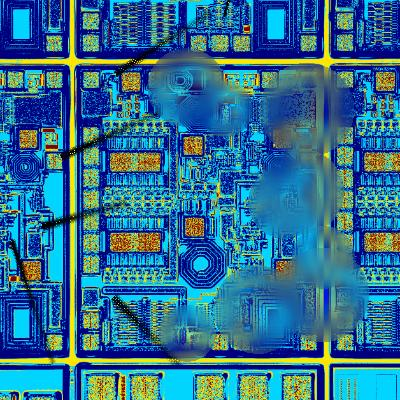Die: (74, 63, 324, 358)
Pad 1: (136, 231, 161, 251), (136, 151, 161, 171), (110, 231, 132, 251), (110, 151, 132, 171), (273, 127, 292, 148), (183, 136, 202, 154), (185, 217, 204, 235), (122, 73, 140, 91), (277, 261, 294, 280)
Pad 2: (83, 190, 99, 208), (83, 169, 99, 187), (83, 212, 99, 230), (83, 235, 99, 252), (83, 256, 99, 273), (83, 148, 99, 165), (83, 334, 99, 350), (83, 72, 99, 88), (83, 127, 99, 143), (149, 72, 165, 88), (234, 334, 250, 350), (212, 334, 228, 350), (189, 334, 205, 350), (83, 313, 99, 328), (262, 72, 277, 88), (207, 72, 222, 88), (301, 72, 316, 88), (302, 154, 317, 170), (301, 335, 317, 350)
